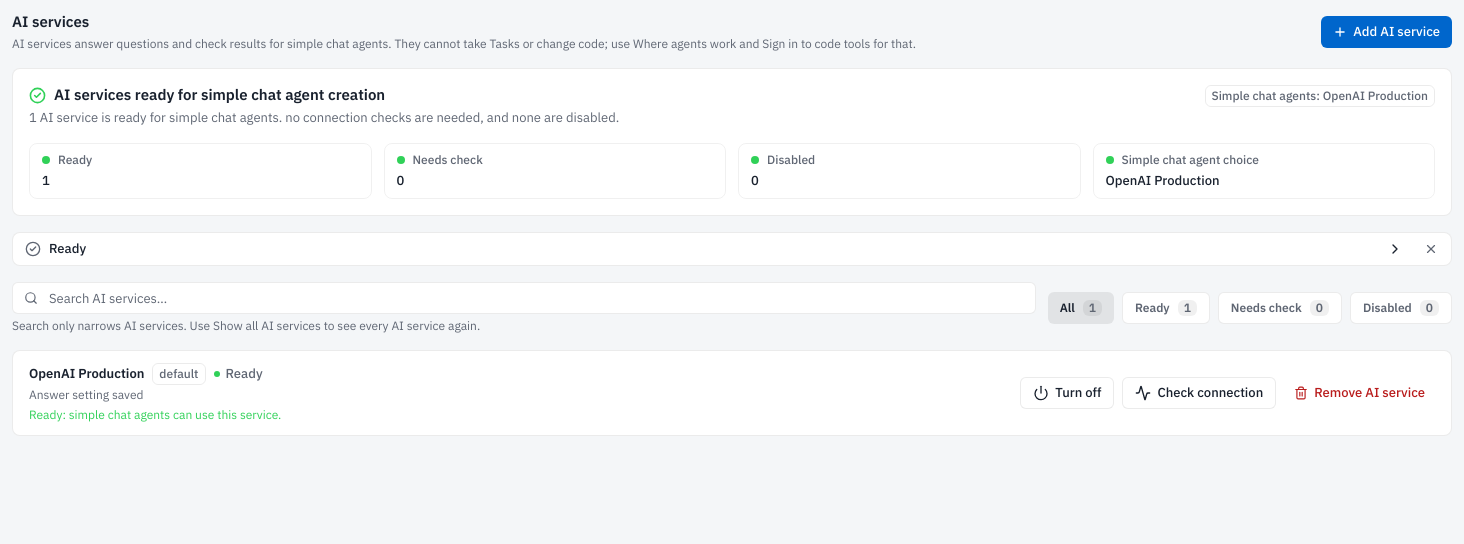
Test: ProvidersSection › points ready AI service setup toward New agent
Click the button "Ready" at (68, 248), box [13,233,1415,265]
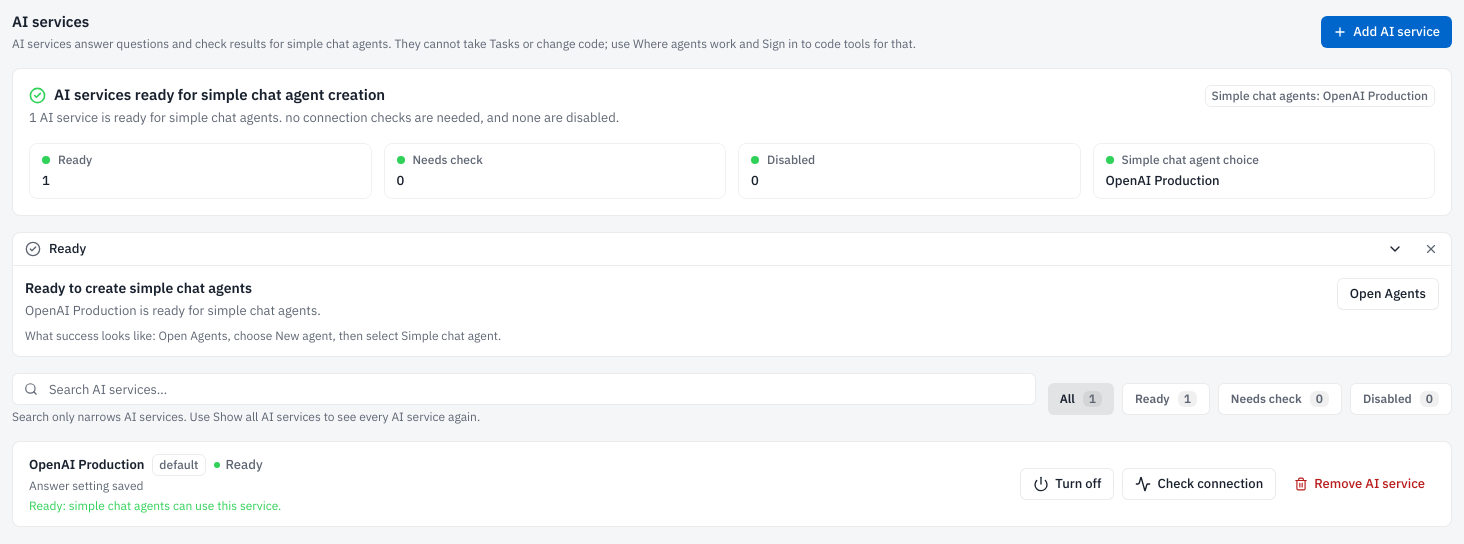
Check: the button "Ready" is expanded, box [13,233,1415,265]
Check: the heading "Ready to create simple chat agents" is shown, box [25,279,252,297]
Check: the text "OpenAI Production is ready for simple chat agents." is shown, box [25,302,321,319]
